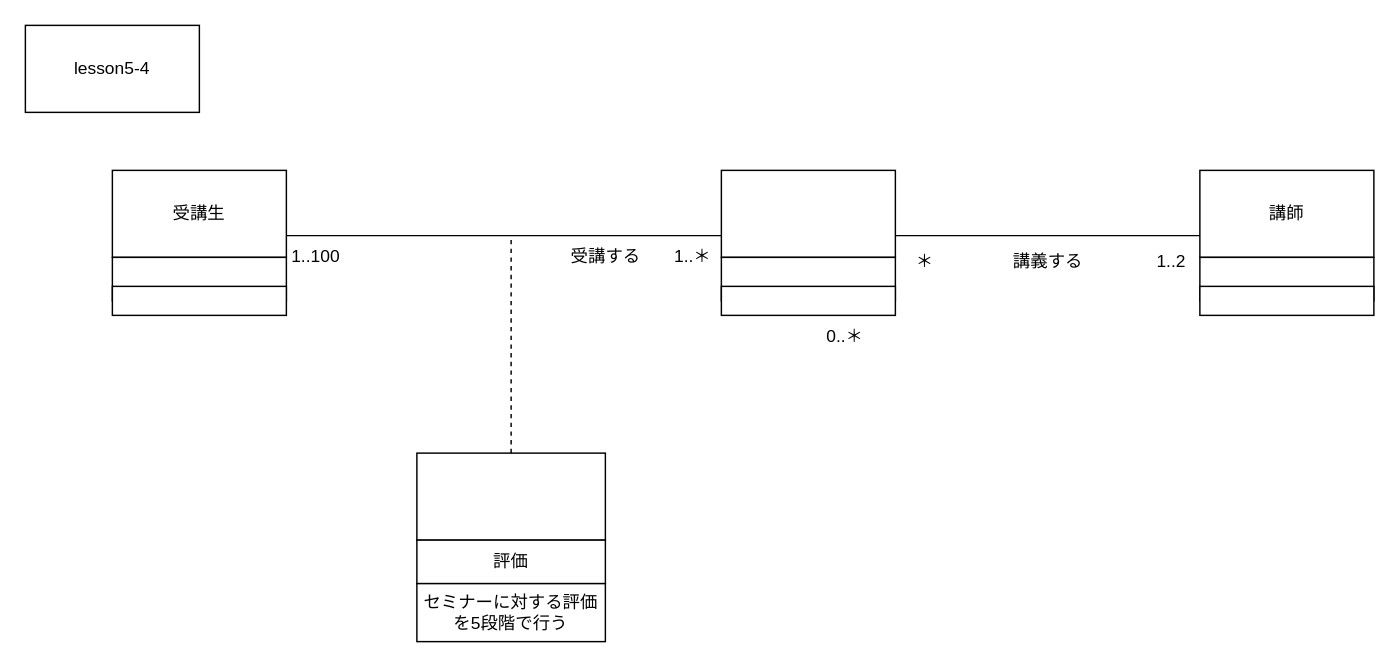
This 1399x667 diagram has some shape labels left out. The shapes that lost their labels are listed below. From the top down, each one's centre as x and y in pixels, then its label:
At (807,213): "セミナ".
At (510,496): "アンケート".
